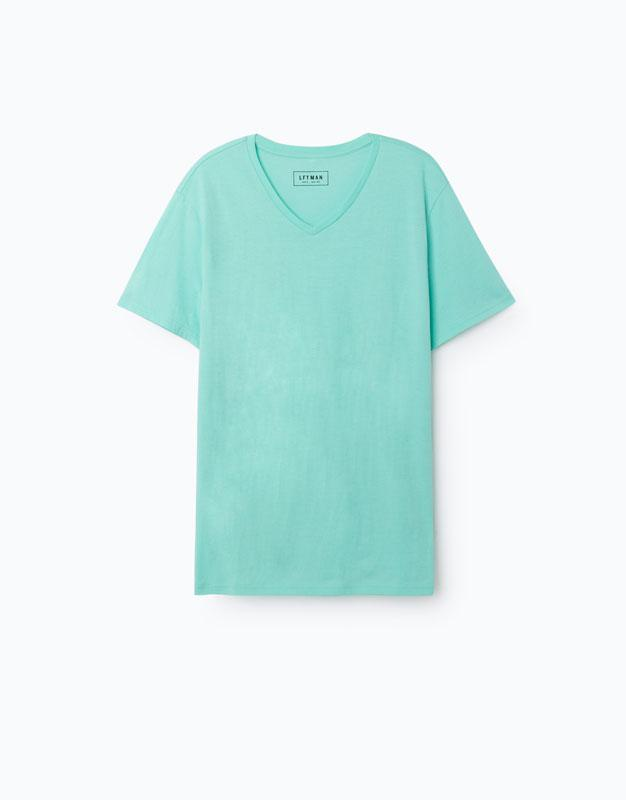teeshirt: (112, 120, 522, 635)
